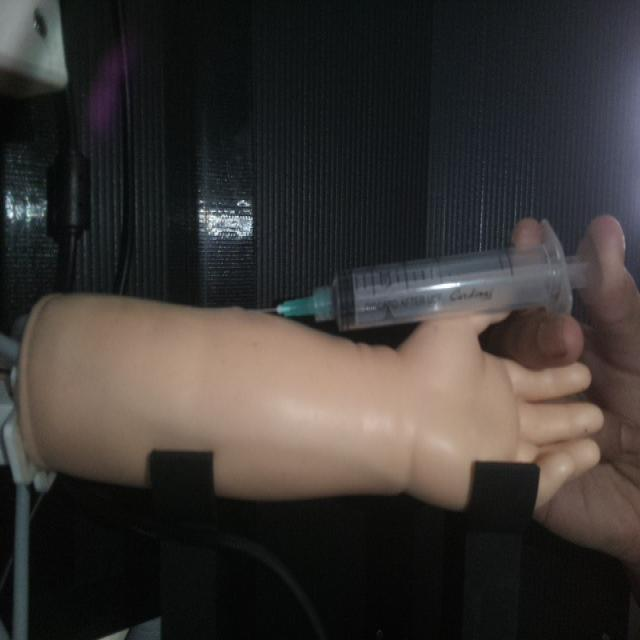Outside: (246, 215, 608, 336)
